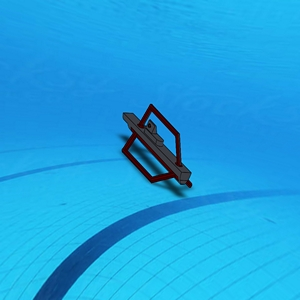submarine: (119, 106, 200, 193)
